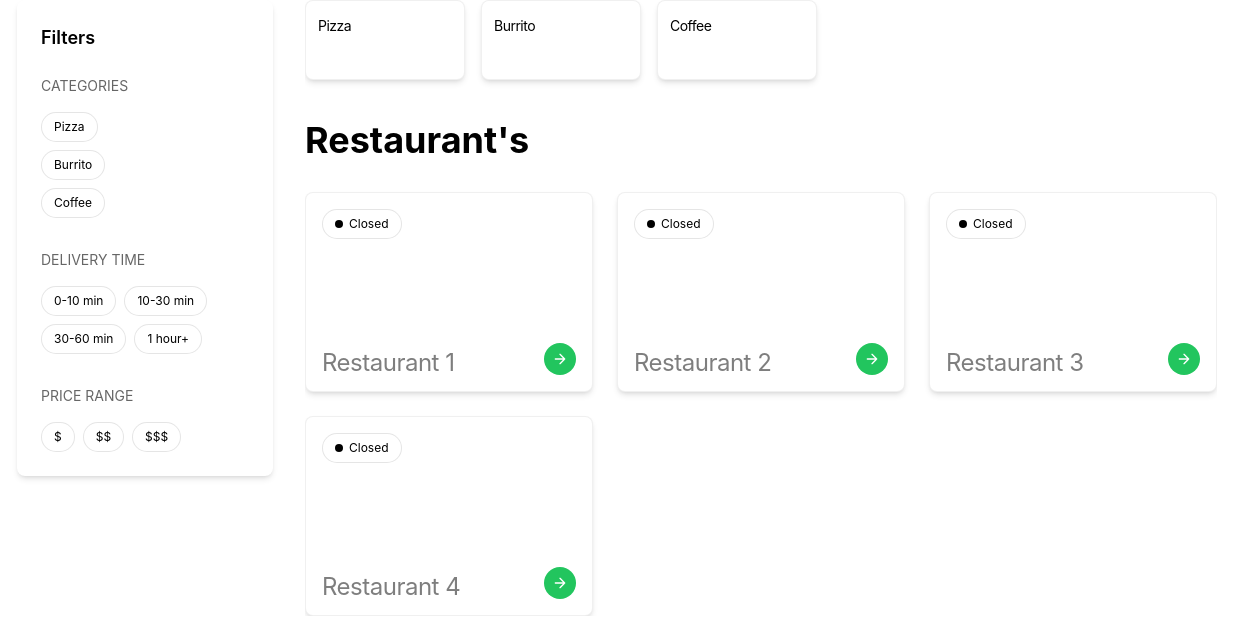
Test: RestaurantList › should filter by price range
Note: Wait for price range filters to load and click '$'
Click the button "$": (58, 437) [41,422,75,452]
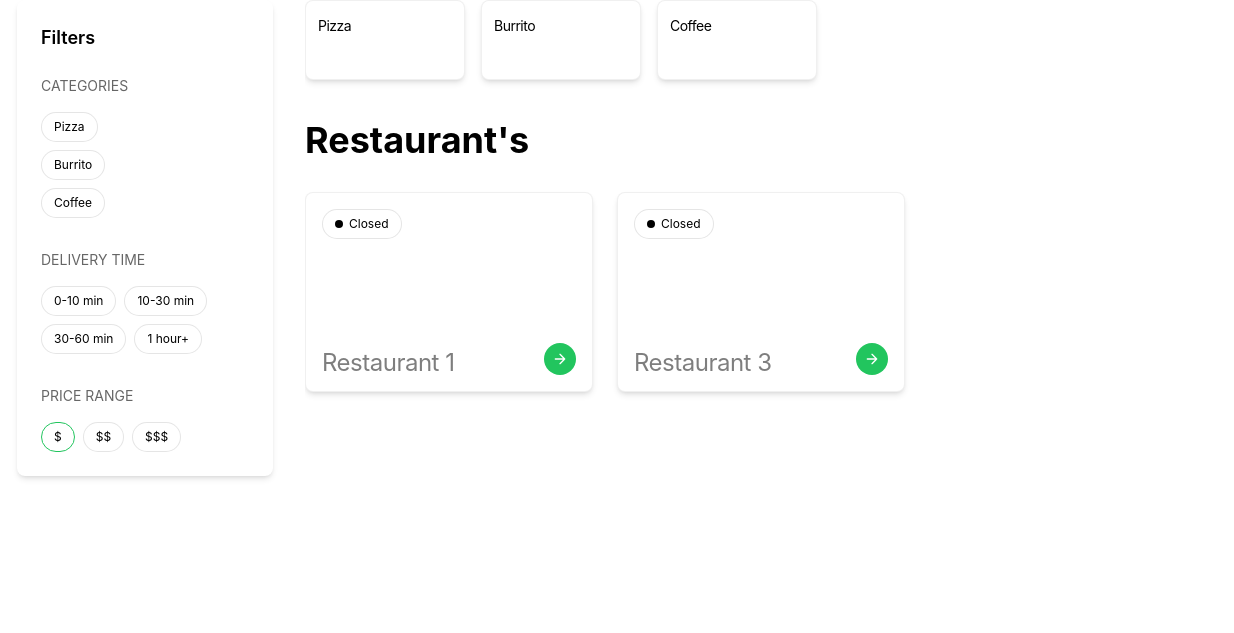
Expected: the heading "Restaurant 1" is shown, [322,348,454,377]
Now the heading "Restaurant 2" is gone
Now the heading "Restaurant 4" is gone
